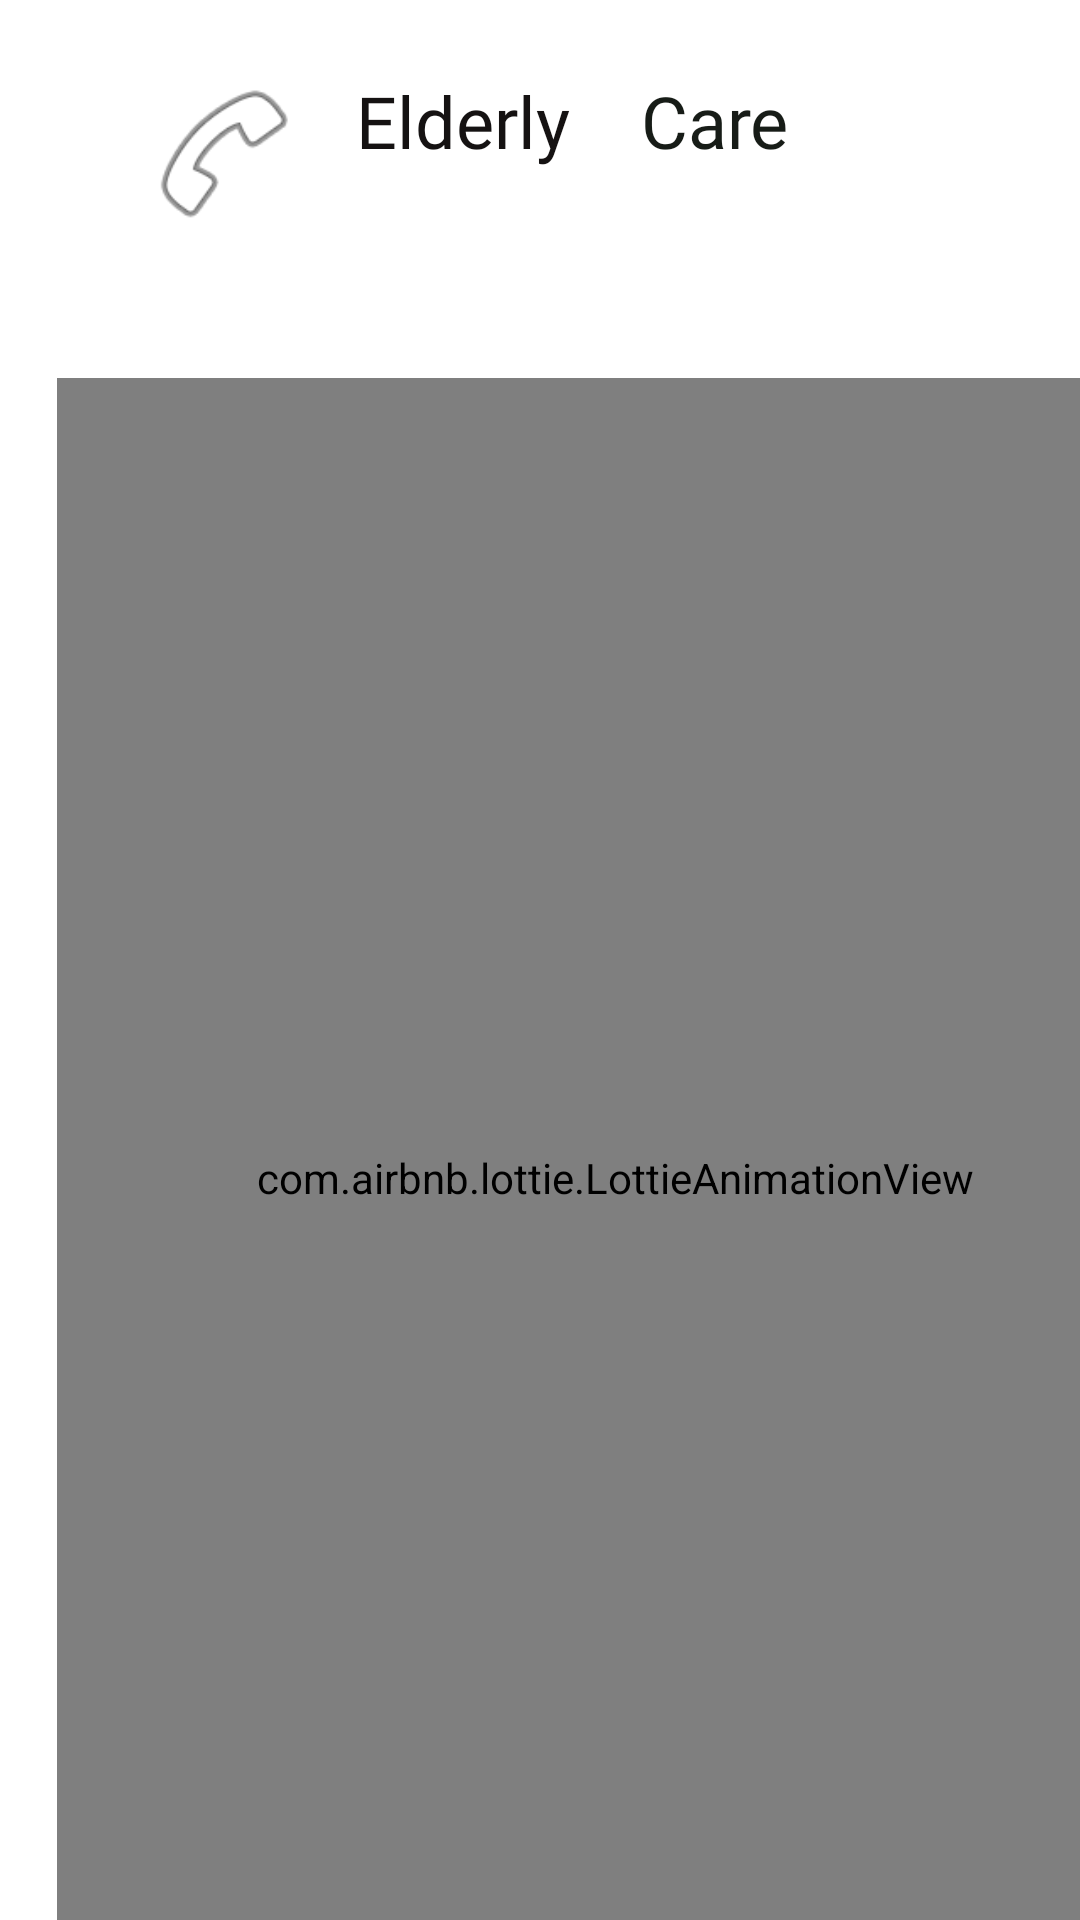

Icons on this 1080 x 1920 Android screen, each with the point to tap as [x,y]:
call: [224,153]
